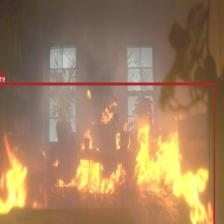fire: (0, 82, 215, 224)
